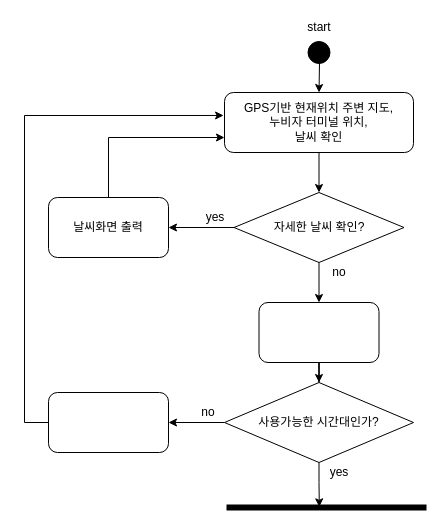
The diagram is 447 pixels wide and 532 high, and some of its shapes have lost their labels. The box of each missing label's shape, as (x1, y1, x2, y2) in pixels:
길찾기: (258, 302, 379, 362)
누비자 이용 불가능 시간대 팝업 출력: (48, 392, 168, 452)
